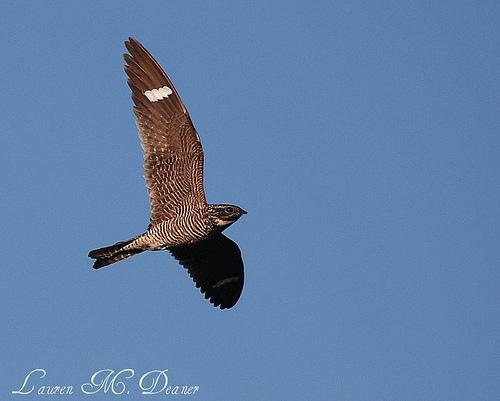bird: (85, 35, 254, 311)
